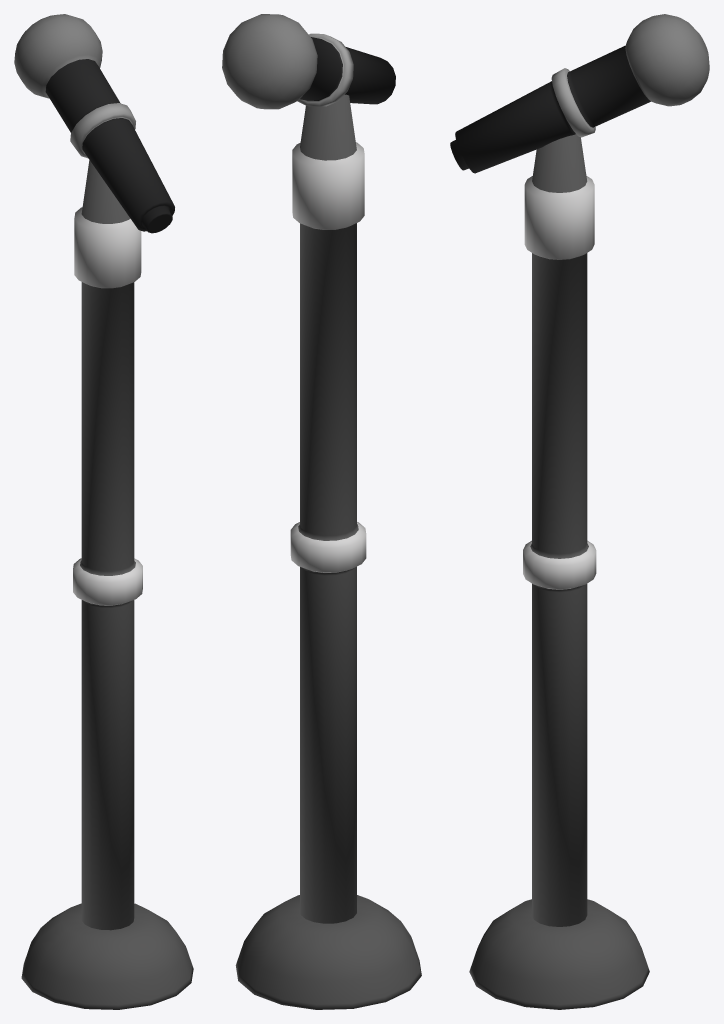
Rendered from Microfone.fbx.
3 views of the same model, side by side, from view 1: azimuth 30°, elevation 25°; view 2: azimuth 150°, elevation 25°; view 3: azimuth 270°, elevation 25° (orthographic). The views are drawn at different scales.
Parts seen in each view (by area): view 1: Cylinder.002; view 2: Cylinder.002; view 3: Cylinder.002.
Part boxes in pixels (box(x1,y1,x2,y2)): Cylinder.002: box(14, 14, 193, 1009); Cylinder.002: box(222, 14, 421, 1009); Cylinder.002: box(450, 14, 709, 1009).
Bounding box in the file's own units: 34.61 × 202 × 49.77.
